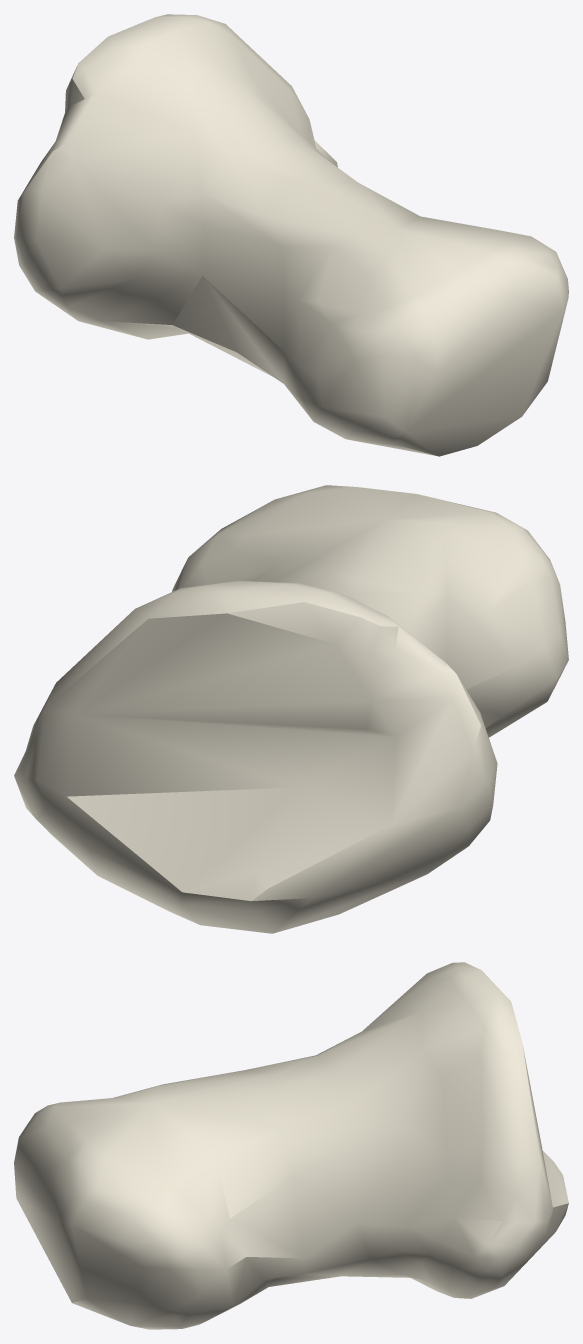
Rendered from fma32653.glb.
The picture shows the model from 3 angles, top to bottom: view 1: azimuth 30°, elevation 25°; view 2: azimuth 150°, elevation 25°; view 3: azimuth 270°, elevation 25°; orthographic projection. The views are drawn at different scales.
Visible parts, largest first — view 1: FMA32653; view 2: FMA32653; view 3: FMA32653.
Part boxes in pixels (left/top/right/bottom): FMA32653: left=14, top=14, right=568, bottom=456; FMA32653: left=14, top=485, right=568, bottom=933; FMA32653: left=14, top=962, right=568, bottom=1329.
Bounding box in the file's own units: 0.0101 × 0.00739 × 0.0132.
